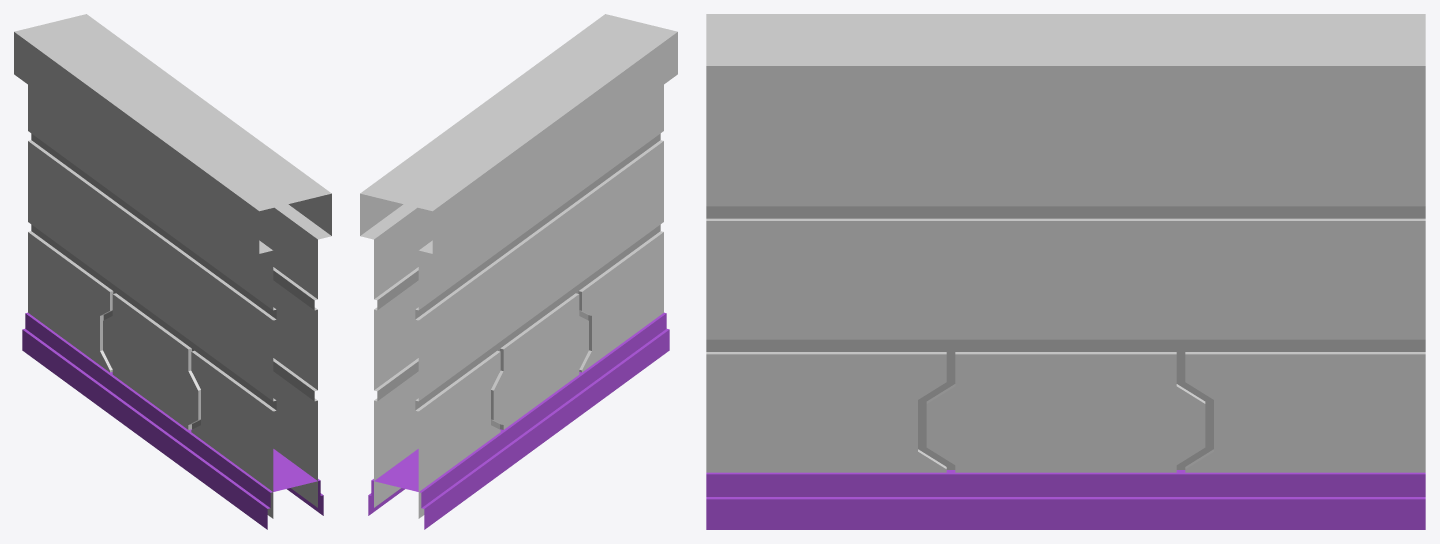
The model's file is Wall_with_details.fbx.
3 renders of one model, left to right at view 1: azimuth 30°, elevation 25°; view 2: azimuth 150°, elevation 25°; view 3: azimuth 270°, elevation 25°, orthographic. The views are drawn at different scales.
Visible parts, largest first — view 1: Wall_with_details1, UnderBase; view 2: Wall_with_details1, UnderBase; view 3: Wall_with_details1, UnderBase.
Boxes of the visible parts, bbox=[...] form: Wall_with_details1: bbox=[14, 14, 331, 518]; UnderBase: bbox=[22, 312, 323, 529]; Wall_with_details1: bbox=[360, 14, 677, 518]; UnderBase: bbox=[368, 312, 669, 529]; Wall_with_details1: bbox=[706, 14, 1425, 472]; UnderBase: bbox=[706, 470, 1425, 529].
Size of the model in its own units: 1.04 by 4.41 by 6.11.
